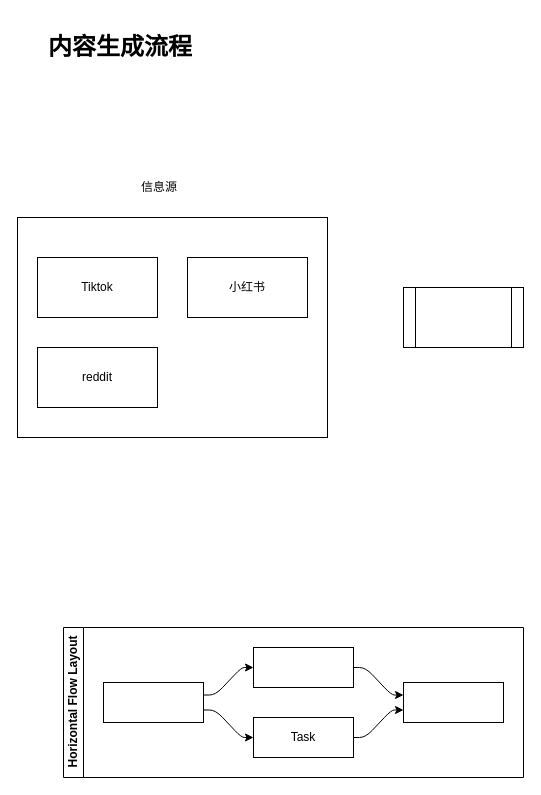
This 541x795 diagram has some shape labels left out. The shapes that lost their labels are listed below. From the top down, each one's centre as x and y in pixels, then its label:
the point at 463,317: 视频抽取
the point at 153,702: Start
the point at 453,702: End
